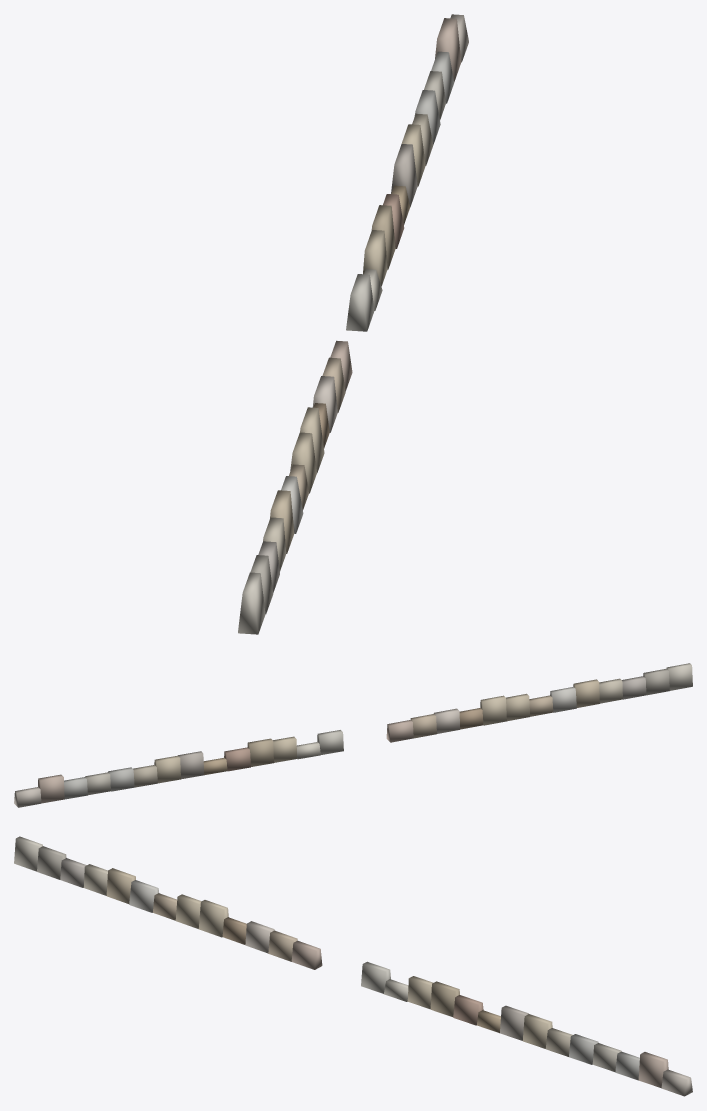
Rendered from farm_19_24_collision.glb.
The picture shows the model from 3 angles, top to bottom: view 1: azimuth 30°, elevation 25°; view 2: azimuth 150°, elevation 25°; view 3: azimuth 270°, elevation 25°; orthographic projection. The views are drawn at different scales.
Visible parts, largest first — view 1: geometry_0; view 2: geometry_0; view 3: geometry_0.
Part boxes in pixels (x1,y1,x2,y2): geometry_0: (238, 14, 468, 634); geometry_0: (14, 663, 692, 807); geometry_0: (14, 836, 692, 1096).
Size of the model in its own units: 28.31 by 1.9 by 35.59.
